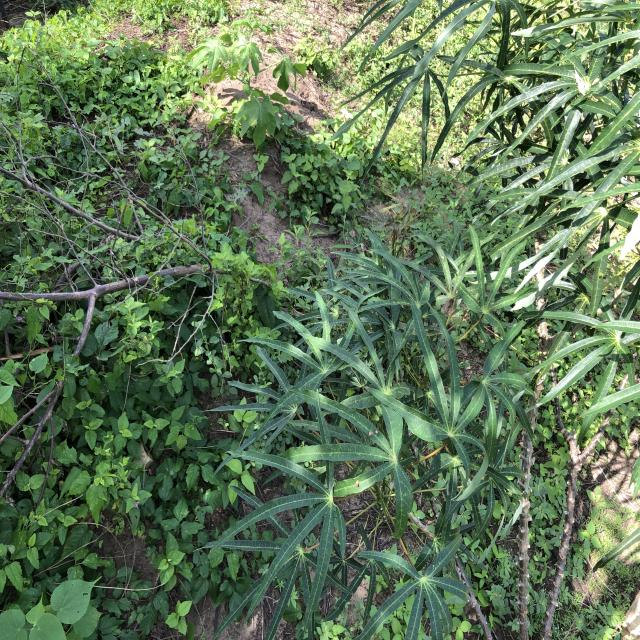Maleza: (0, 342, 199, 637), (0, 0, 183, 167), (289, 152, 369, 220)
Mosca: (365, 423, 378, 437), (496, 442, 507, 458), (352, 479, 364, 492), (568, 331, 578, 342)
